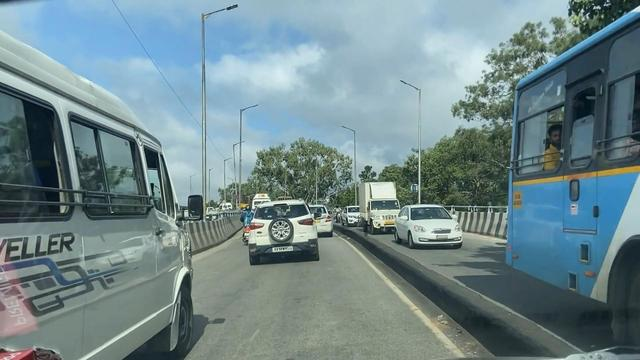LMV: (251, 204, 319, 257)
